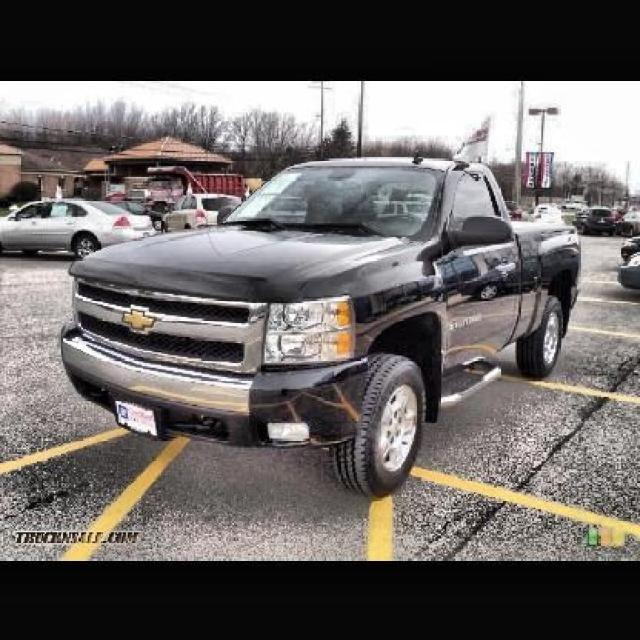black: (67, 153, 586, 490)
